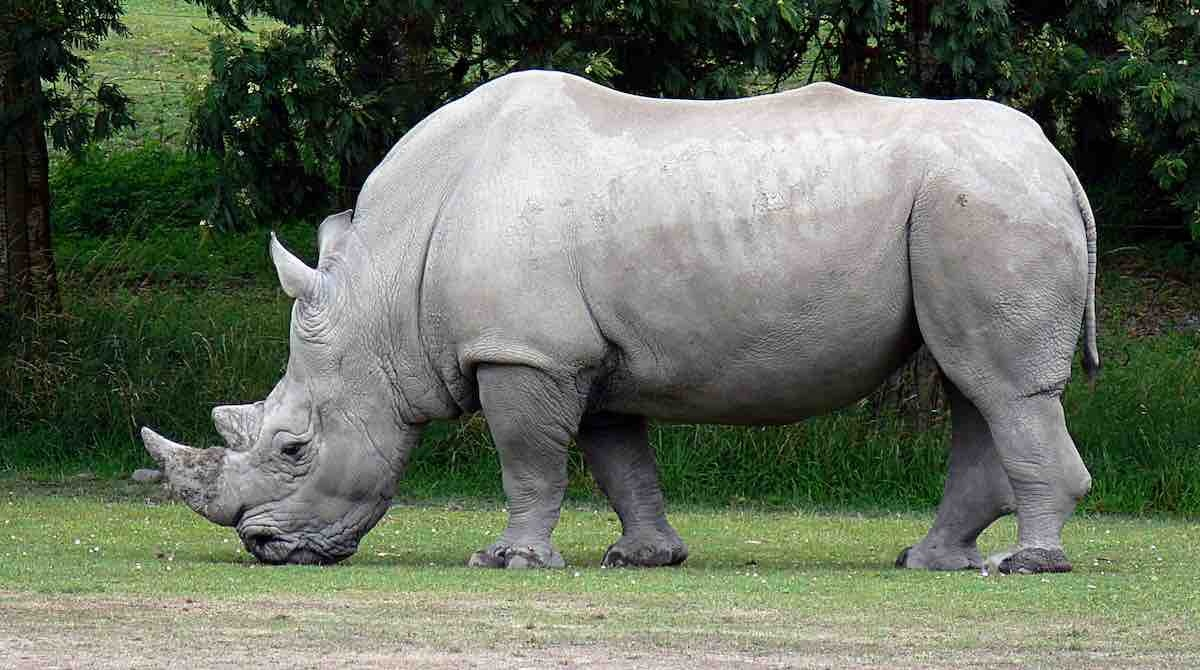rhino: (135, 66, 1101, 574)
